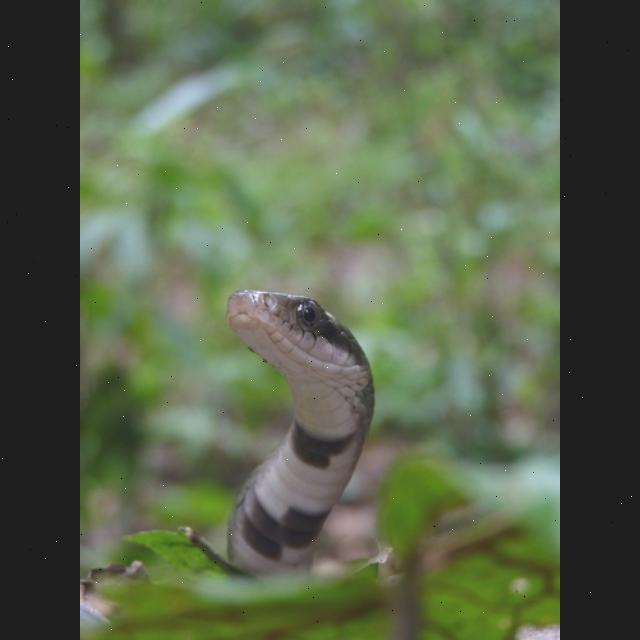snake: (190, 272, 402, 592)
